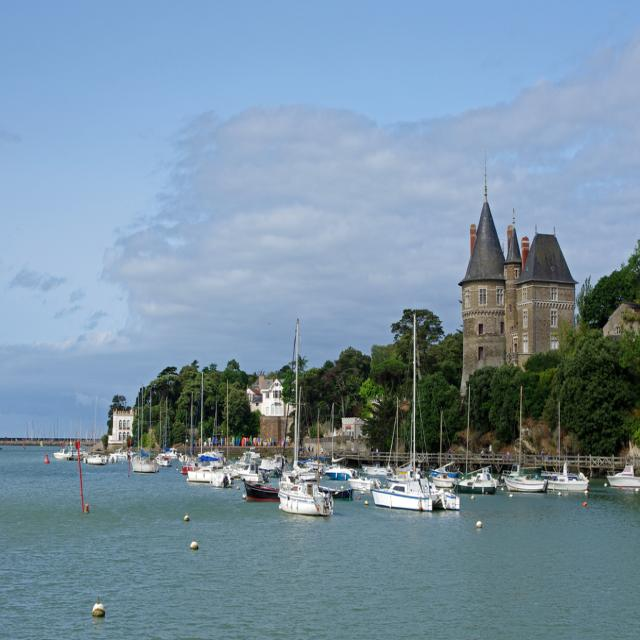Boat: (54, 385, 344, 486), (369, 304, 456, 512), (277, 314, 336, 518), (502, 384, 548, 493), (544, 401, 588, 496), (383, 394, 422, 483), (324, 401, 362, 478), (430, 400, 459, 488), (240, 472, 284, 503), (460, 462, 502, 493), (606, 463, 640, 489), (364, 457, 394, 478), (346, 476, 376, 496)
